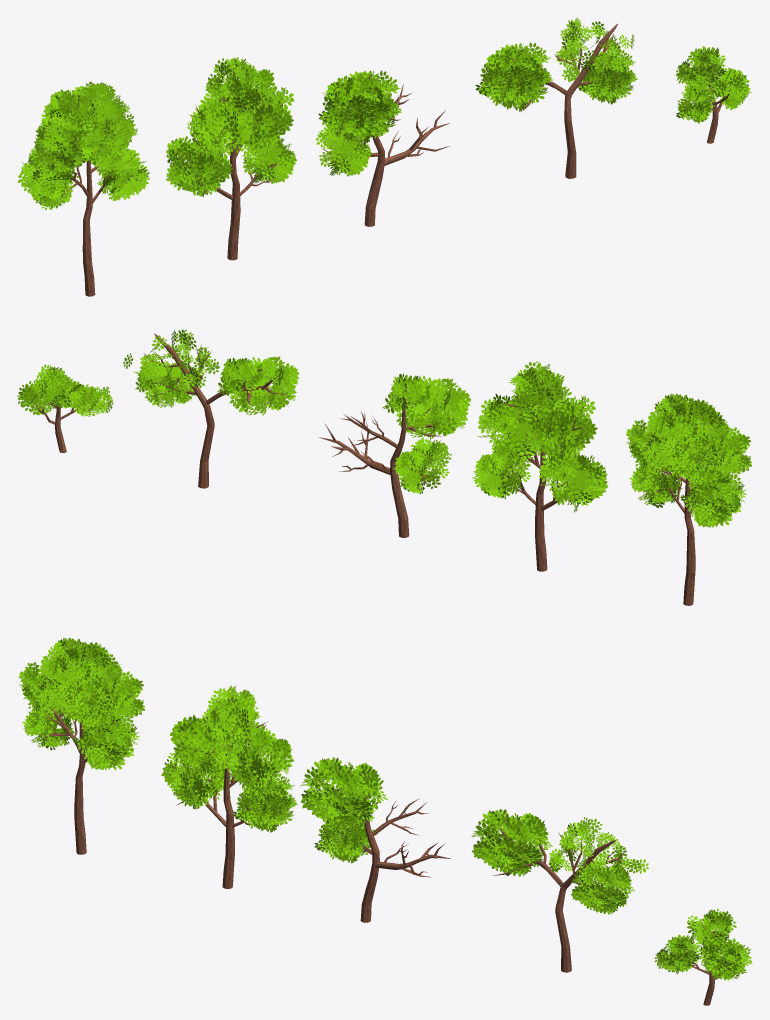
File: trees-pack.glb
3 views of the same model, one above another, from view 1: azimuth 30°, elevation 25°; view 2: azimuth 150°, elevation 25°; view 3: azimuth 330°, elevation 25° (orthographic).
Visible parts, largest first — view 1: NormalTree_2, NormalTree_1, NormalTree_4, NormalTree_3, NormalTree_5; view 2: NormalTree_2, NormalTree_1, NormalTree_4, NormalTree_3, NormalTree_5; view 3: NormalTree_2, NormalTree_1, NormalTree_4, NormalTree_3, NormalTree_5.
Boxes of the visible parts, x1,y1,x2,y2 form: NormalTree_2: (165, 57, 297, 260); NormalTree_1: (17, 81, 149, 296); NormalTree_4: (475, 17, 637, 178); NormalTree_3: (316, 70, 450, 226); NormalTree_5: (675, 46, 752, 143); NormalTree_2: (472, 361, 608, 571); NormalTree_1: (626, 393, 752, 605); NormalTree_4: (123, 329, 299, 488); NormalTree_3: (318, 373, 470, 537); NormalTree_5: (17, 364, 113, 452); NormalTree_2: (161, 685, 297, 888); NormalTree_1: (19, 637, 144, 854); NormalTree_4: (471, 809, 648, 972); NormalTree_3: (299, 757, 450, 922); NormalTree_5: (654, 908, 752, 1005).
Size of the model in its own units: 24.93 by 6.87 by 3.
2 materials, 2 textured.
